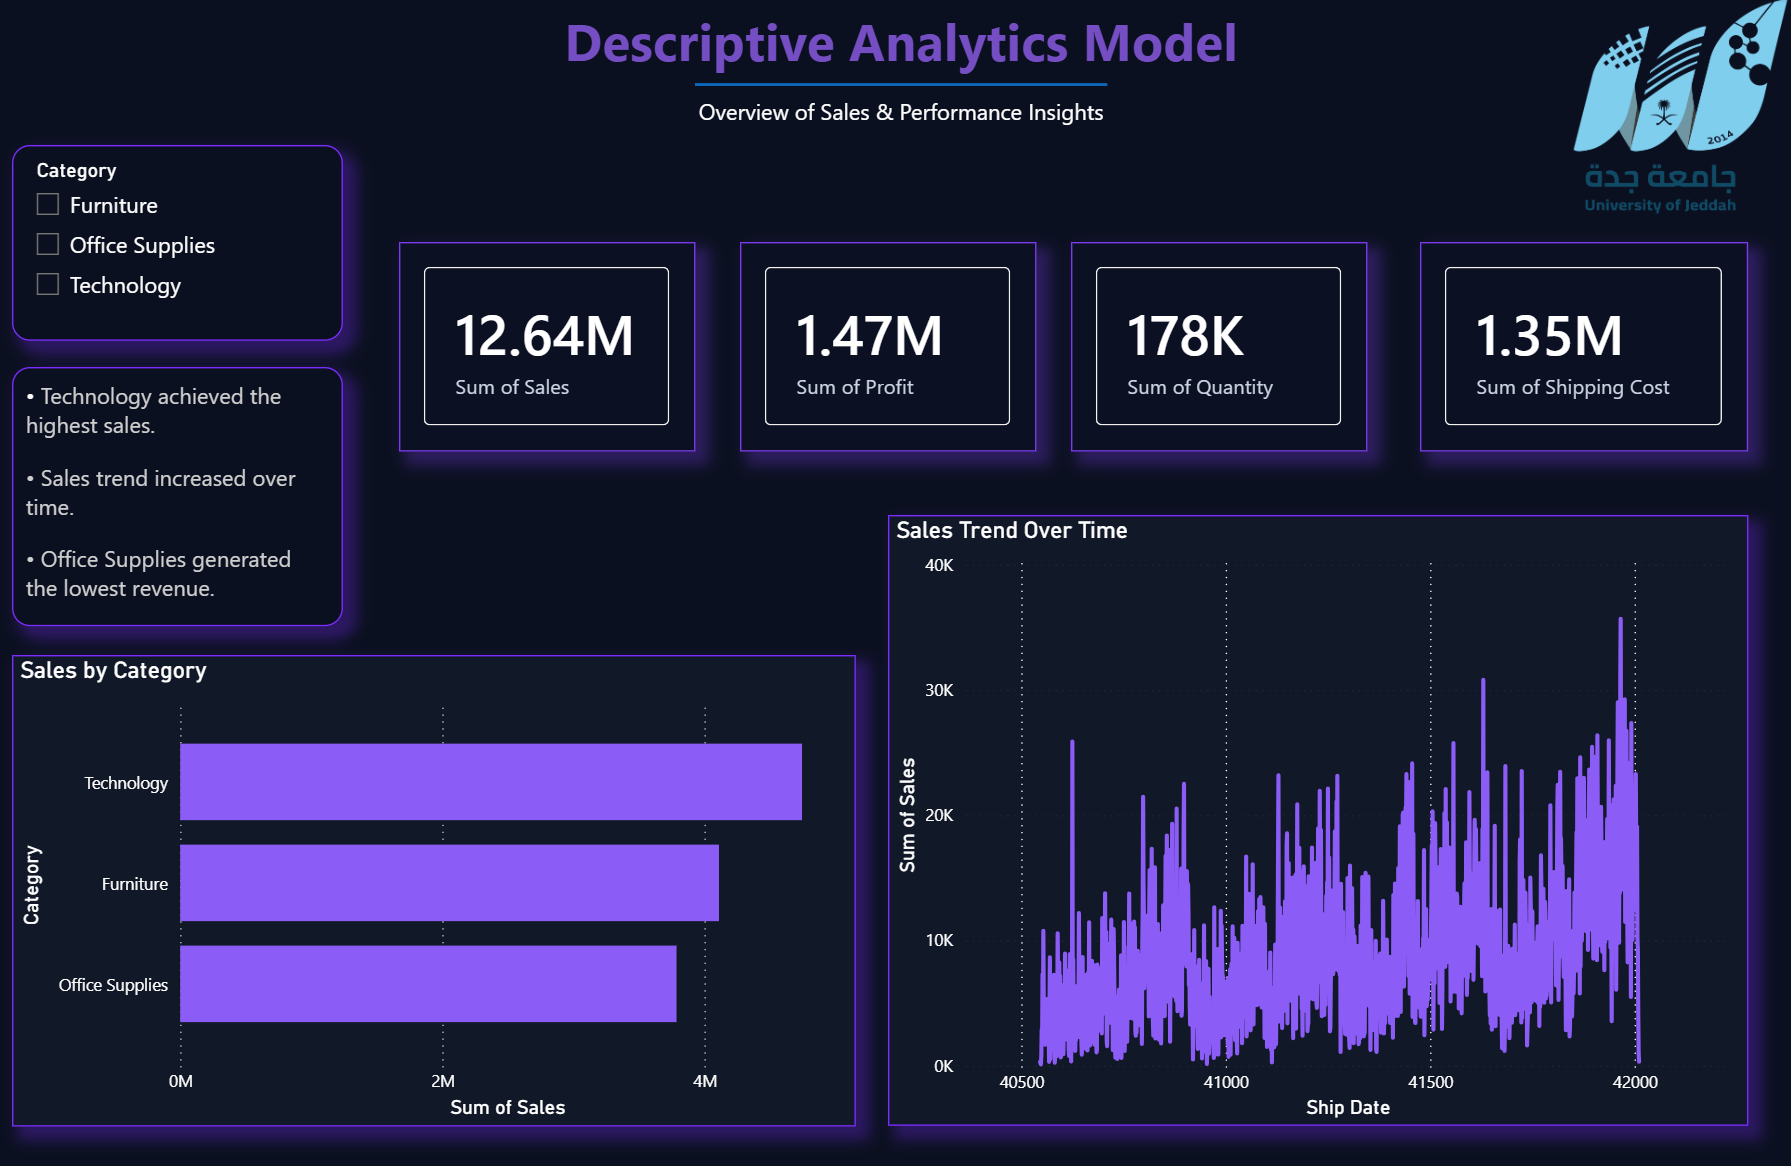

This screenshot's page, from the dashboard's own definition file:
{"tool":"powerbi","page":{"name":"Descriptive Analytics","canvas":[1300,850],"ordinal":0},"visuals":[{"type":"textbox","box":[9.6,0,1289.8,176.6],"z":0},{"type":"cardVisual","fields":{"Data":["Sum(Orders.Sales)"]},"box":[289.8,176.6,215,151.6],"z":1000},{"type":"cardVisual","fields":{"Data":["Sum(Orders.Profit)"]},"box":[537.4,176.6,215,151.6],"z":2000},{"type":"cardVisual","fields":{"Data":["Sum(Orders.Quantity)"]},"box":[777.3,176.6,215,151.6],"z":3000},{"type":"cardVisual","fields":{"Data":["Sum(Orders.Shipping Cost)"]},"box":[1030.7,176.6,238,151.6],"z":4000},{"type":"clusteredBarChart","title":"Sales by Category","fields":{"Category":["Orders.Category"],"Y":["Sum(Orders.Sales)"]},"box":[9.6,476,612.3,341.6],"z":5000},{"type":"lineChart","title":"Sales Trend Over Time","fields":{"Category":["Orders.Ship Date"],"Y":["Sum(Orders.Sales)"]},"box":[644.9,374.3,623.8,443.4],"z":6000},{"type":"slicer","fields":{"Values":["Orders.Category"]},"box":[9.6,105.6,239.9,142],"z":7000},{"type":"textbox","box":[9.6,266.8,239.9,188.1],"z":8000},{"type":"shape","box":[504.8,19.2,299.4,86.4],"z":9000},{"type":"image","box":[1140.1,0,159.3,159.3],"z":10000}]}

Visuals, with their boxes in screenshot pixels (x1, y1, x2, y2), scaled from the page's 1300x850 canvas onto the 1791x1166 screenshot:
textbox: (13,0,1790,242)
cardVisual - Sum(Orders.Sales): (399,242,695,450)
cardVisual - Sum(Orders.Profit): (740,242,1037,450)
cardVisual - Sum(Orders.Quantity): (1071,242,1367,450)
cardVisual - Sum(Orders.Shipping Cost): (1420,242,1748,450)
"Sales by Category" clusteredBarChart: (13,653,857,1122)
"Sales Trend Over Time" lineChart: (888,513,1748,1122)
slicer - Orders.Category: (13,145,344,340)
textbox: (13,366,344,624)
shape: (695,26,1108,145)
image: (1571,0,1790,219)
